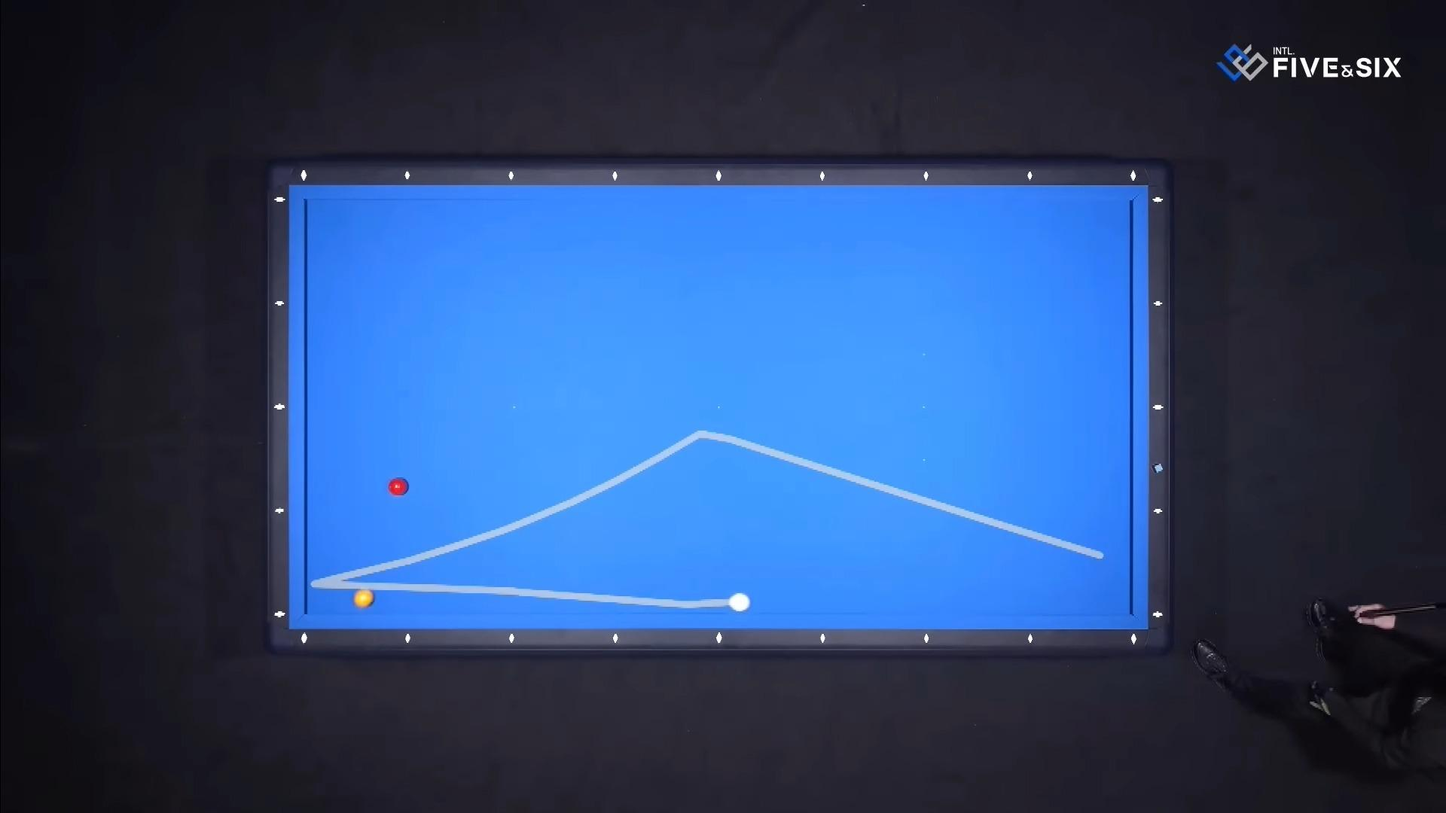-billiard-ball: (352, 588, 374, 608)
Red: (386, 480, 410, 498)
White: (724, 590, 752, 612)
Yellow: (354, 588, 380, 608)
